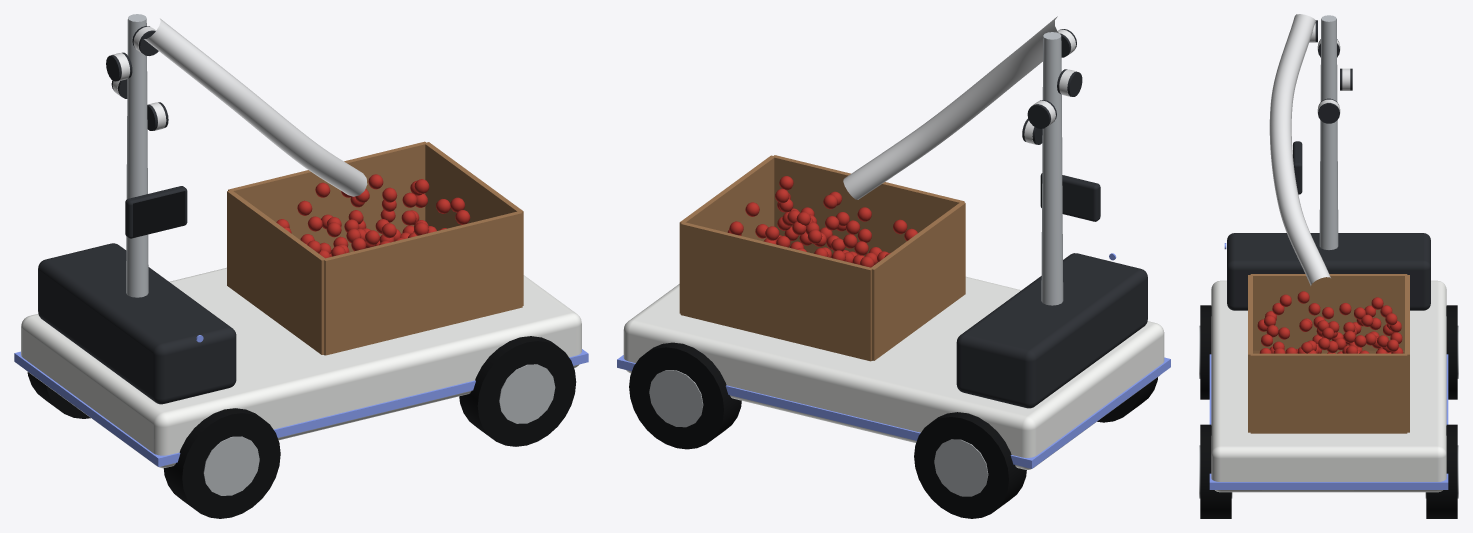
The model's file is groundUnit.glb.
3 views of the same model, side by side, from view 1: azimuth 30°, elevation 25°; view 2: azimuth 150°, elevation 25°; view 3: azimuth 270°, elevation 25° (orthographic). The views are drawn at different scales.
Parts seen in each view (by area): view 1: bin, deck, batteryBox, tyre (×3), conveyor, binFruit, hub (×2), pole, stripe, screen, screenFrame; view 2: bin, deck, batteryBox, tyre (×3), conveyor, binFruit, pole, hub (×2), stripe, screenFrame; view 3: deck, bin, batteryBox, conveyor, tyre (×4), binFruit, pole, stripe, screenFrame, drum.
Part boxes in pixels (left/top/right/bottom): bin: left=227, top=141, right=523, bottom=355; deck: left=21, top=267, right=581, bottom=468; batteryBox: left=38, top=243, right=236, bottom=404; tyre (×3): left=27, top=336, right=576, bottom=518; conveyor: left=144, top=18, right=367, bottom=196; binFruit: left=276, top=174, right=470, bottom=258; hub (×2): left=203, top=364, right=555, bottom=495; pole: left=126, top=14, right=148, bottom=297; stripe: left=14, top=349, right=588, bottom=466; screen: left=133, top=191, right=185, bottom=237; screenFrame: left=125, top=186, right=187, bottom=238; bin: left=679, top=155, right=965, bottom=361; deck: left=623, top=276, right=1164, bottom=469; batteryBox: left=956, top=253, right=1147, bottom=408; tyre (×3): left=629, top=342, right=1157, bottom=518; conveyor: left=843, top=16, right=1058, bottom=199; binFruit: left=727, top=176, right=917, bottom=267; pole: left=1041, top=32, right=1063, bottom=305; hub (×2): left=649, top=370, right=988, bottom=496; stripe: left=617, top=355, right=1170, bottom=468; screenFrame: left=1040, top=173, right=1100, bottom=221; deck: left=1211, top=280, right=1446, bottom=492; bin: left=1248, top=274, right=1409, bottom=433; batteryBox: left=1227, top=233, right=1430, bottom=310; conveyor: left=1269, top=14, right=1330, bottom=285; tyre (×4): left=1200, top=305, right=1457, bottom=518; binFruit: left=1257, top=291, right=1403, bottom=353; pole: left=1319, top=15, right=1338, bottom=249; stripe: left=1209, top=354, right=1448, bottom=489; screenFrame: left=1293, top=141, right=1302, bottom=194; drum: left=1318, top=98, right=1339, bottom=123.
Size of the model in its own units: 2.62 by 2.65 by 1.65.
